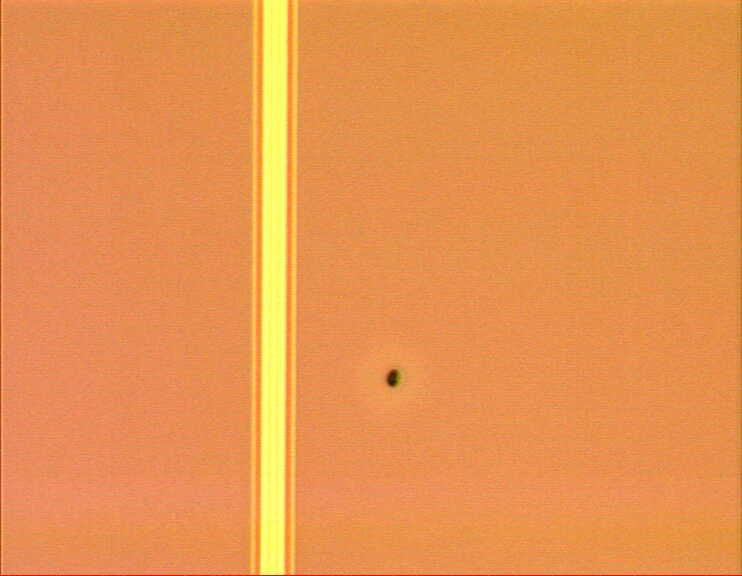PIQ PARTICLE: (380, 366, 408, 394)
